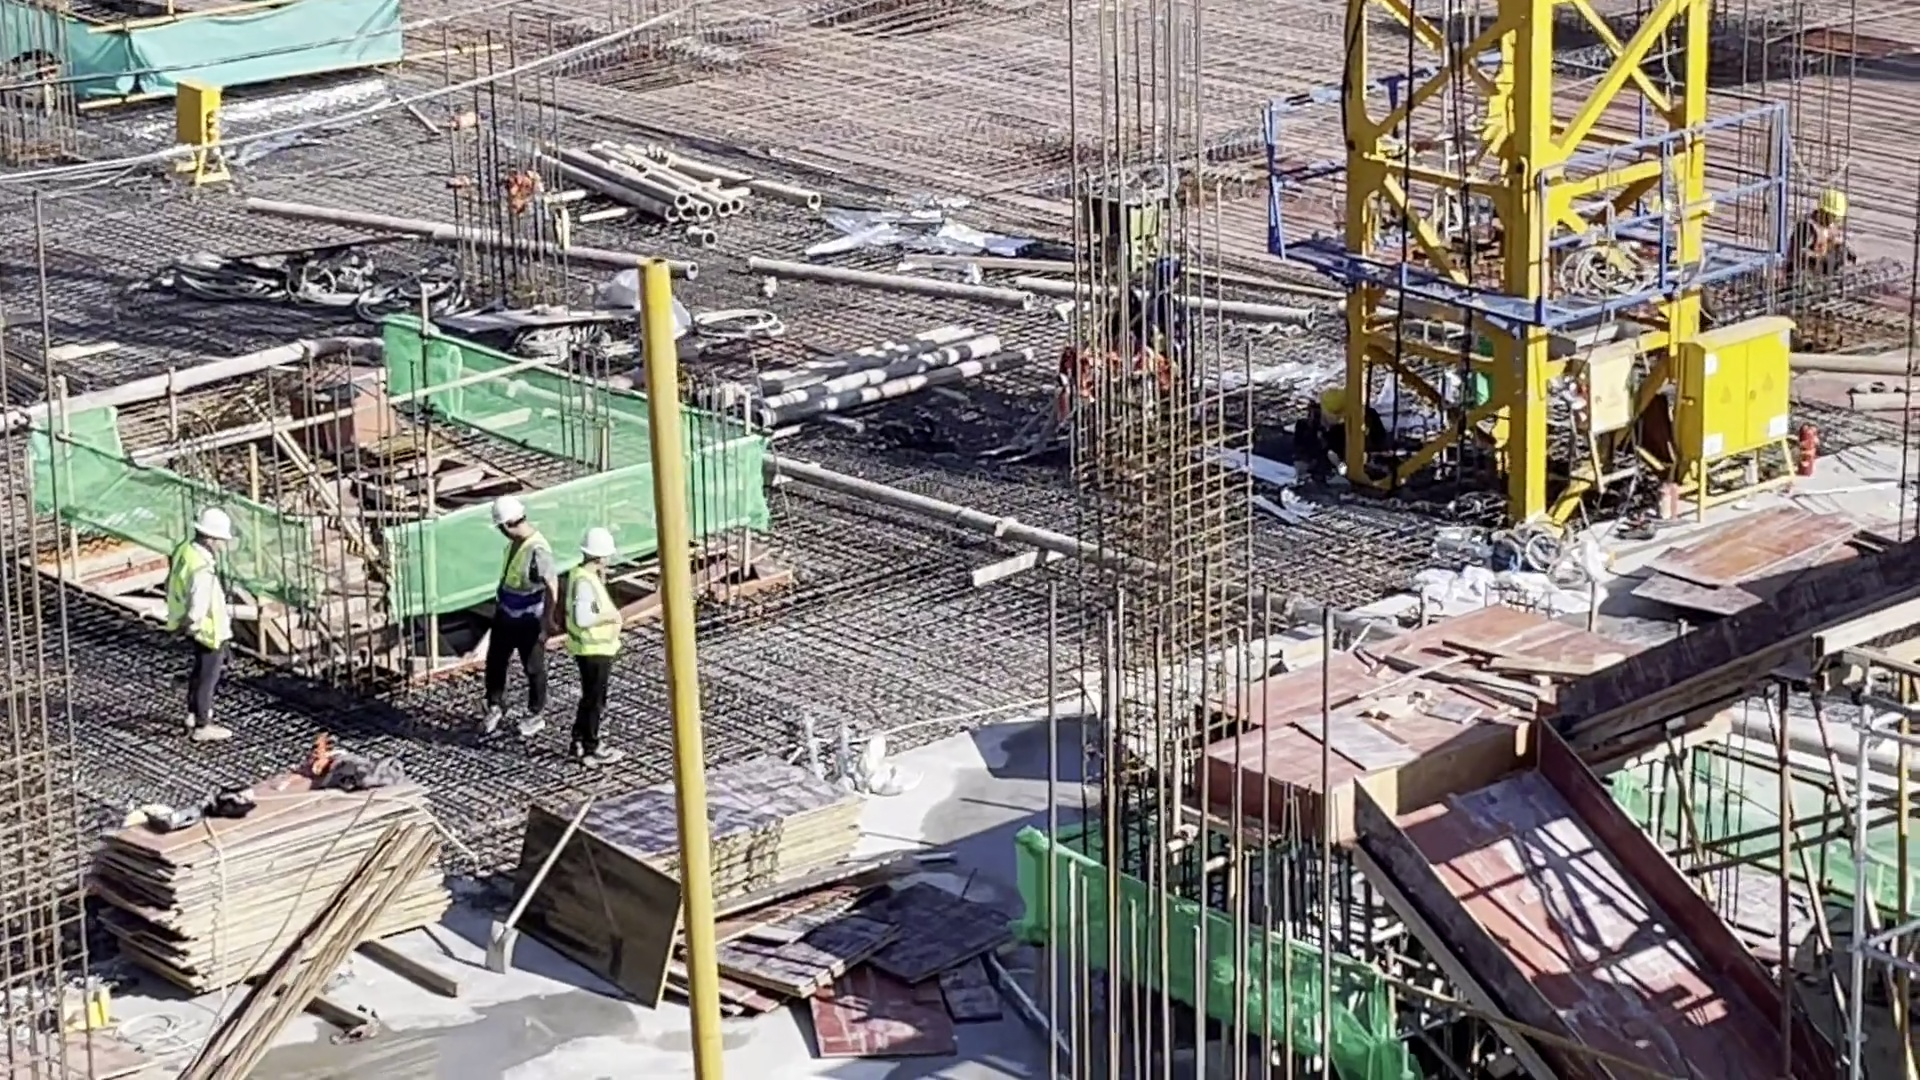board: (102, 742, 461, 995), (546, 750, 869, 924)
ebox: (1676, 316, 1800, 509), (175, 78, 230, 184)
helmet: (1325, 388, 1355, 423), (1825, 190, 1846, 217)
person: (484, 501, 554, 741), (563, 527, 626, 767), (177, 504, 238, 745), (1299, 388, 1383, 472), (1785, 195, 1852, 272)
vest: (1803, 216, 1846, 268)
